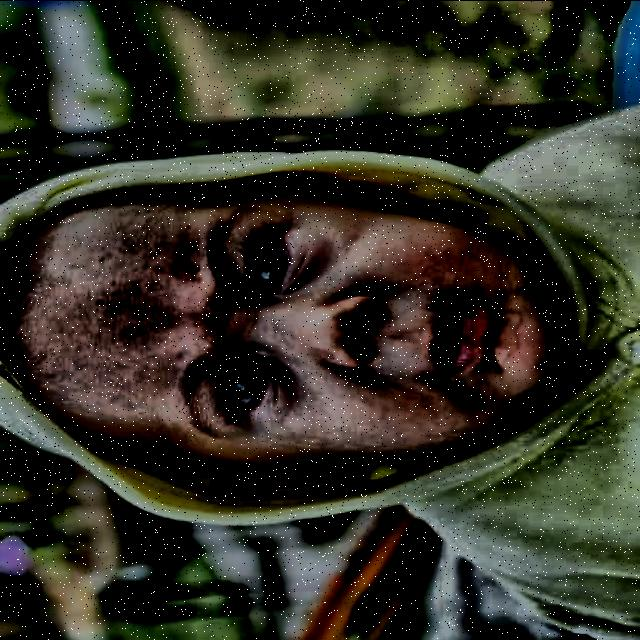neutral: (1, 157, 594, 503)
